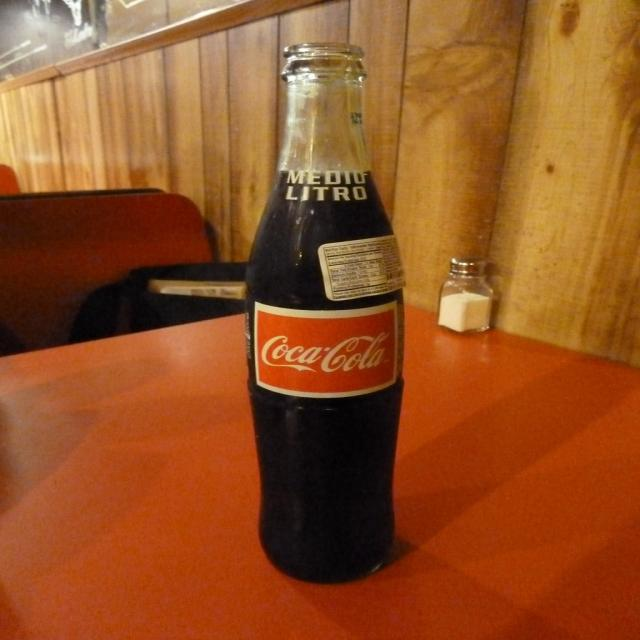cocacola: (258, 330, 392, 376)
